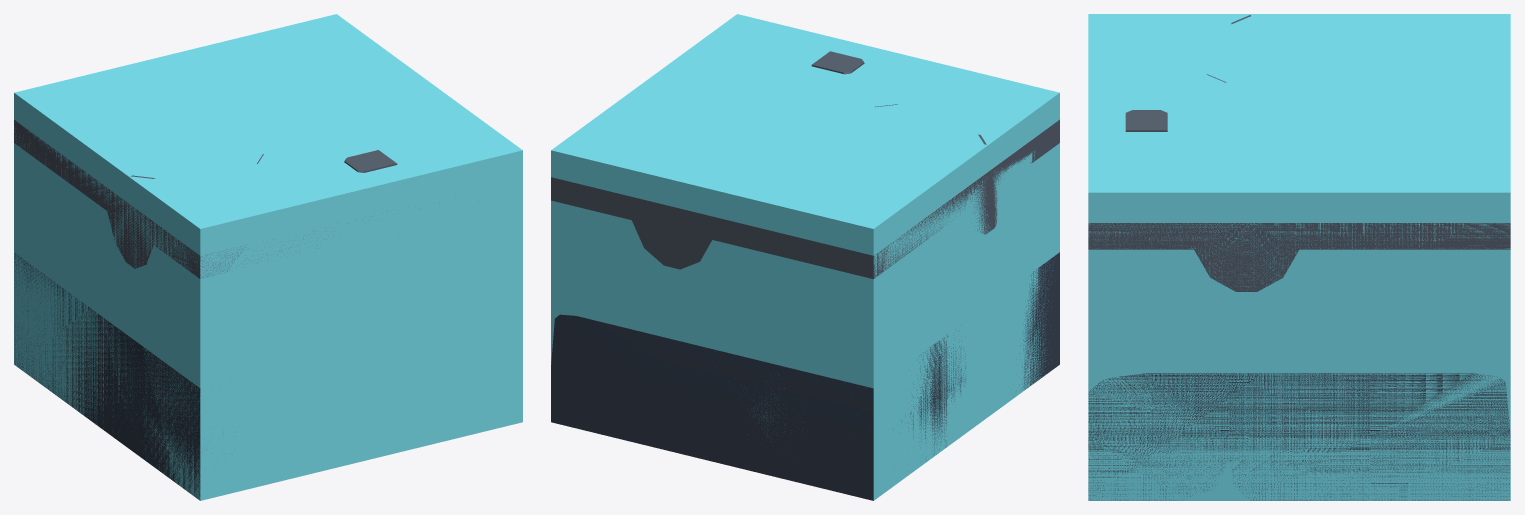
File: PBOX33_MudFlA_01.FBX
3 renders of one model, left to right at view 1: azimuth 30°, elevation 25°; view 2: azimuth 150°, elevation 25°; view 3: azimuth 270°, elevation 25°, orthographic. The views are drawn at different scales.
Parts seen in each view (by area): view 1: PBOX33_MudFlA_01, PBOX33_SUB_TAB_FlA_004, PBOX33_SUB_MudFlA_003; view 2: PBOX33_MudFlA_01, PBOX33_SUB_TAB_FlA_004, PBOX33_SUB_MudFlA_003; view 3: PBOX33_MudFlA_01, PBOX33_SUB_TAB_FlA_004, PBOX33_SUB_MudFlA_003.
Part boxes in pixels (x1=…): PBOX33_MudFlA_01: x1=14, y1=14, x2=522, y2=500; PBOX33_SUB_TAB_FlA_004: x1=14, y1=253, x2=200, y2=499; PBOX33_SUB_MudFlA_003: x1=14, y1=119, x2=397, y2=278; PBOX33_MudFlA_01: x1=551, y1=14, x2=1059, y2=500; PBOX33_SUB_TAB_FlA_004: x1=551, y1=252, x2=1059, y2=500; PBOX33_SUB_MudFlA_003: x1=551, y1=51, x2=1059, y2=278; PBOX33_MudFlA_01: x1=1088, y1=14, x2=1510, y2=500; PBOX33_SUB_TAB_FlA_004: x1=1088, y1=373, x2=1510, y2=500; PBOX33_SUB_MudFlA_003: x1=1088, y1=15, x2=1510, y2=291.
Bounding box in the file's own units: 18 × 14.58 × 18.
